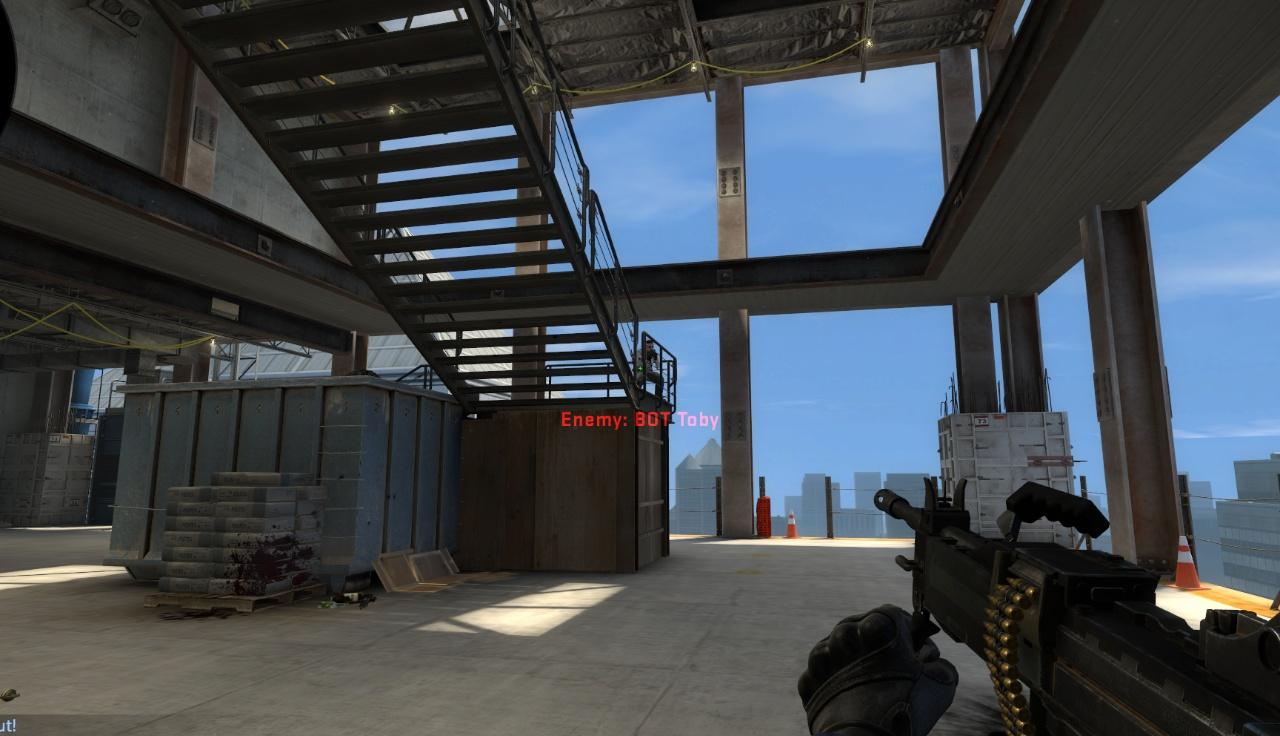rifle: (846, 475, 1280, 736)
tt: (632, 339, 664, 400)
tthead: (645, 339, 655, 353)
